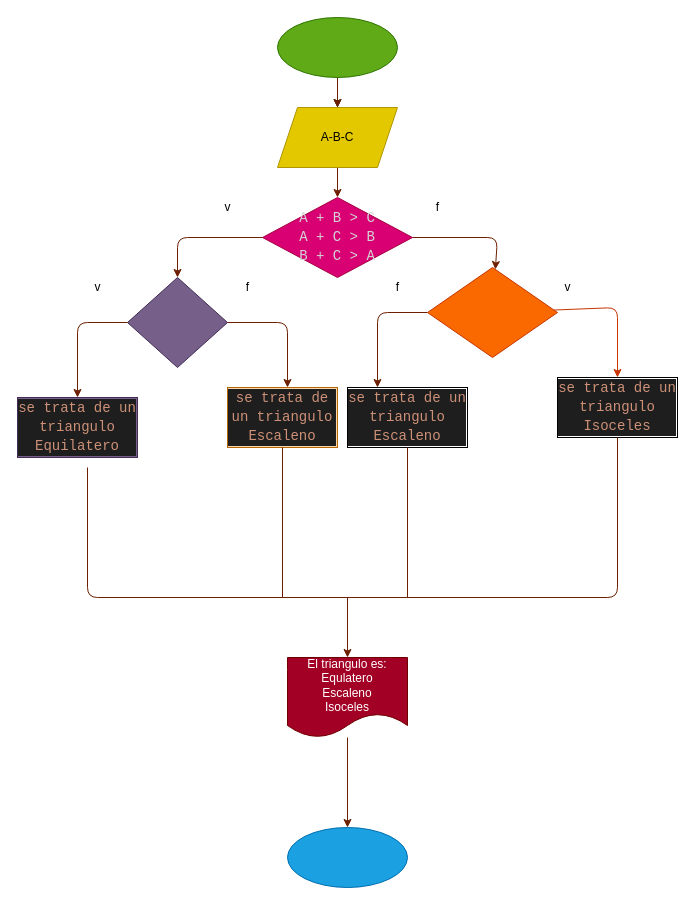
Image size: 695x905. Some labels were removed from this diagram. Each missing label, with the box of its shape:
(A==B or A==C or B==C): (426, 266, 558, 358)
A==B==C: (126, 276, 228, 368)
Fin: (286, 826, 408, 888)
Inicio: (276, 16, 398, 78)
